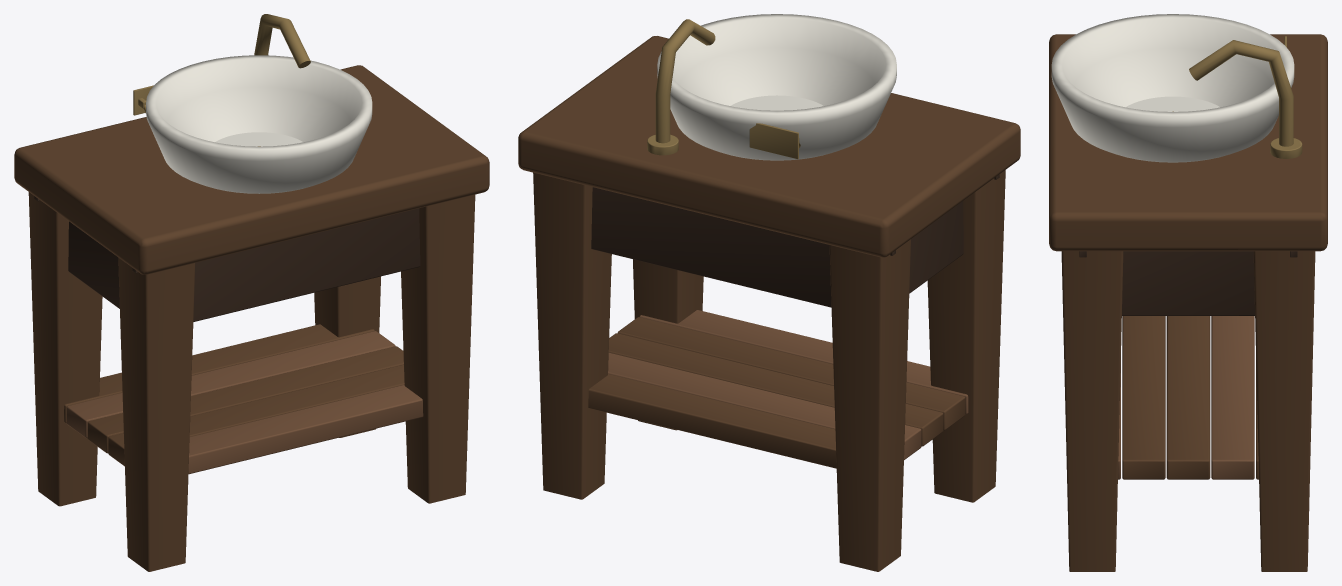
The model's file is kominka-washstand-01.glb.
3 views of the same model, side by side, from view 1: azimuth 30°, elevation 25°; view 2: azimuth 150°, elevation 25°; view 3: azimuth 270°, elevation 25° (orthographic). The views are drawn at different scales.
Parts seen in each view (by area): view 1: kominka-washstand-01; view 2: kominka-washstand-01; view 3: kominka-washstand-01.
Part boxes in pixels (x1,y1,x2,y2): kominka-washstand-01: (14, 14, 489, 571); kominka-washstand-01: (518, 14, 1020, 571); kominka-washstand-01: (1049, 14, 1327, 571).
Bounding box in the file's own units: 0.7 × 0.85 × 0.45.
